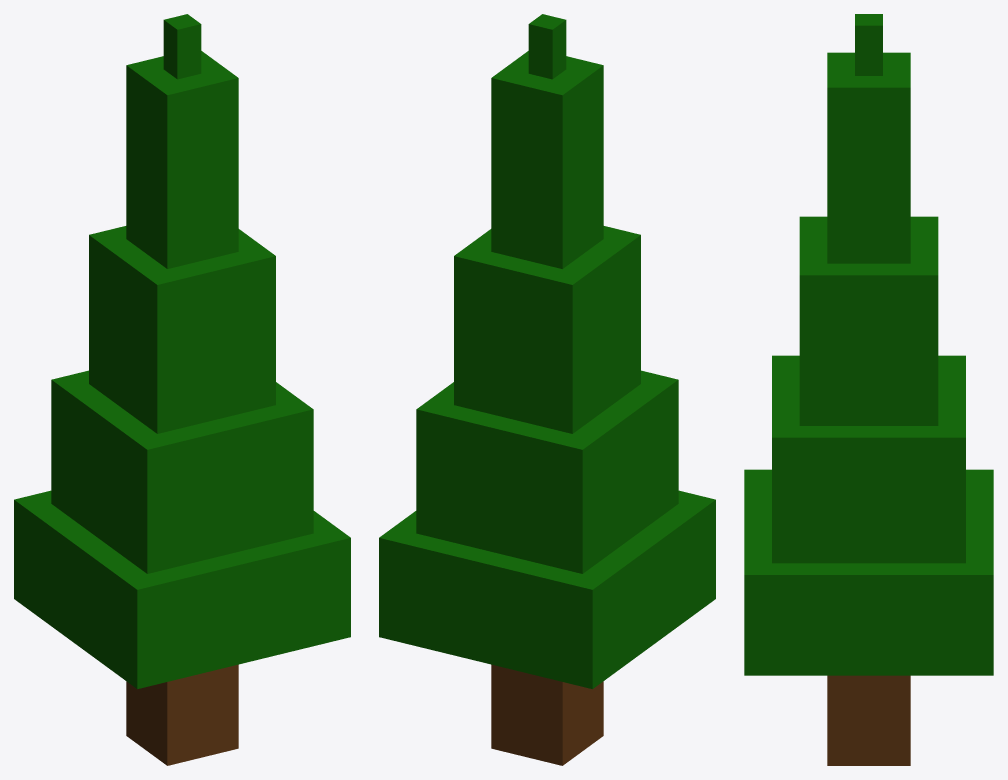
Rendered from Pine Tree(2) (Stage5).obj.
3 views of the same model, side by side, from view 1: azimuth 30°, elevation 25°; view 2: azimuth 150°, elevation 25°; view 3: azimuth 270°, elevation 25° (orthographic).
Size of the model in its own units: 0.9 by 2.9 by 0.9.
1 material, 1 textured.
